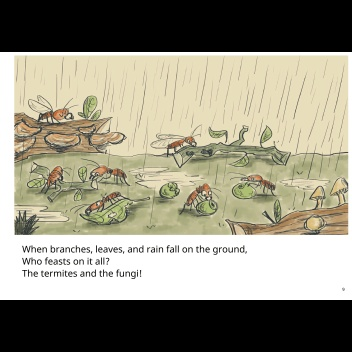latin: (18, 241, 249, 254), (19, 266, 143, 279), (19, 255, 113, 266)
